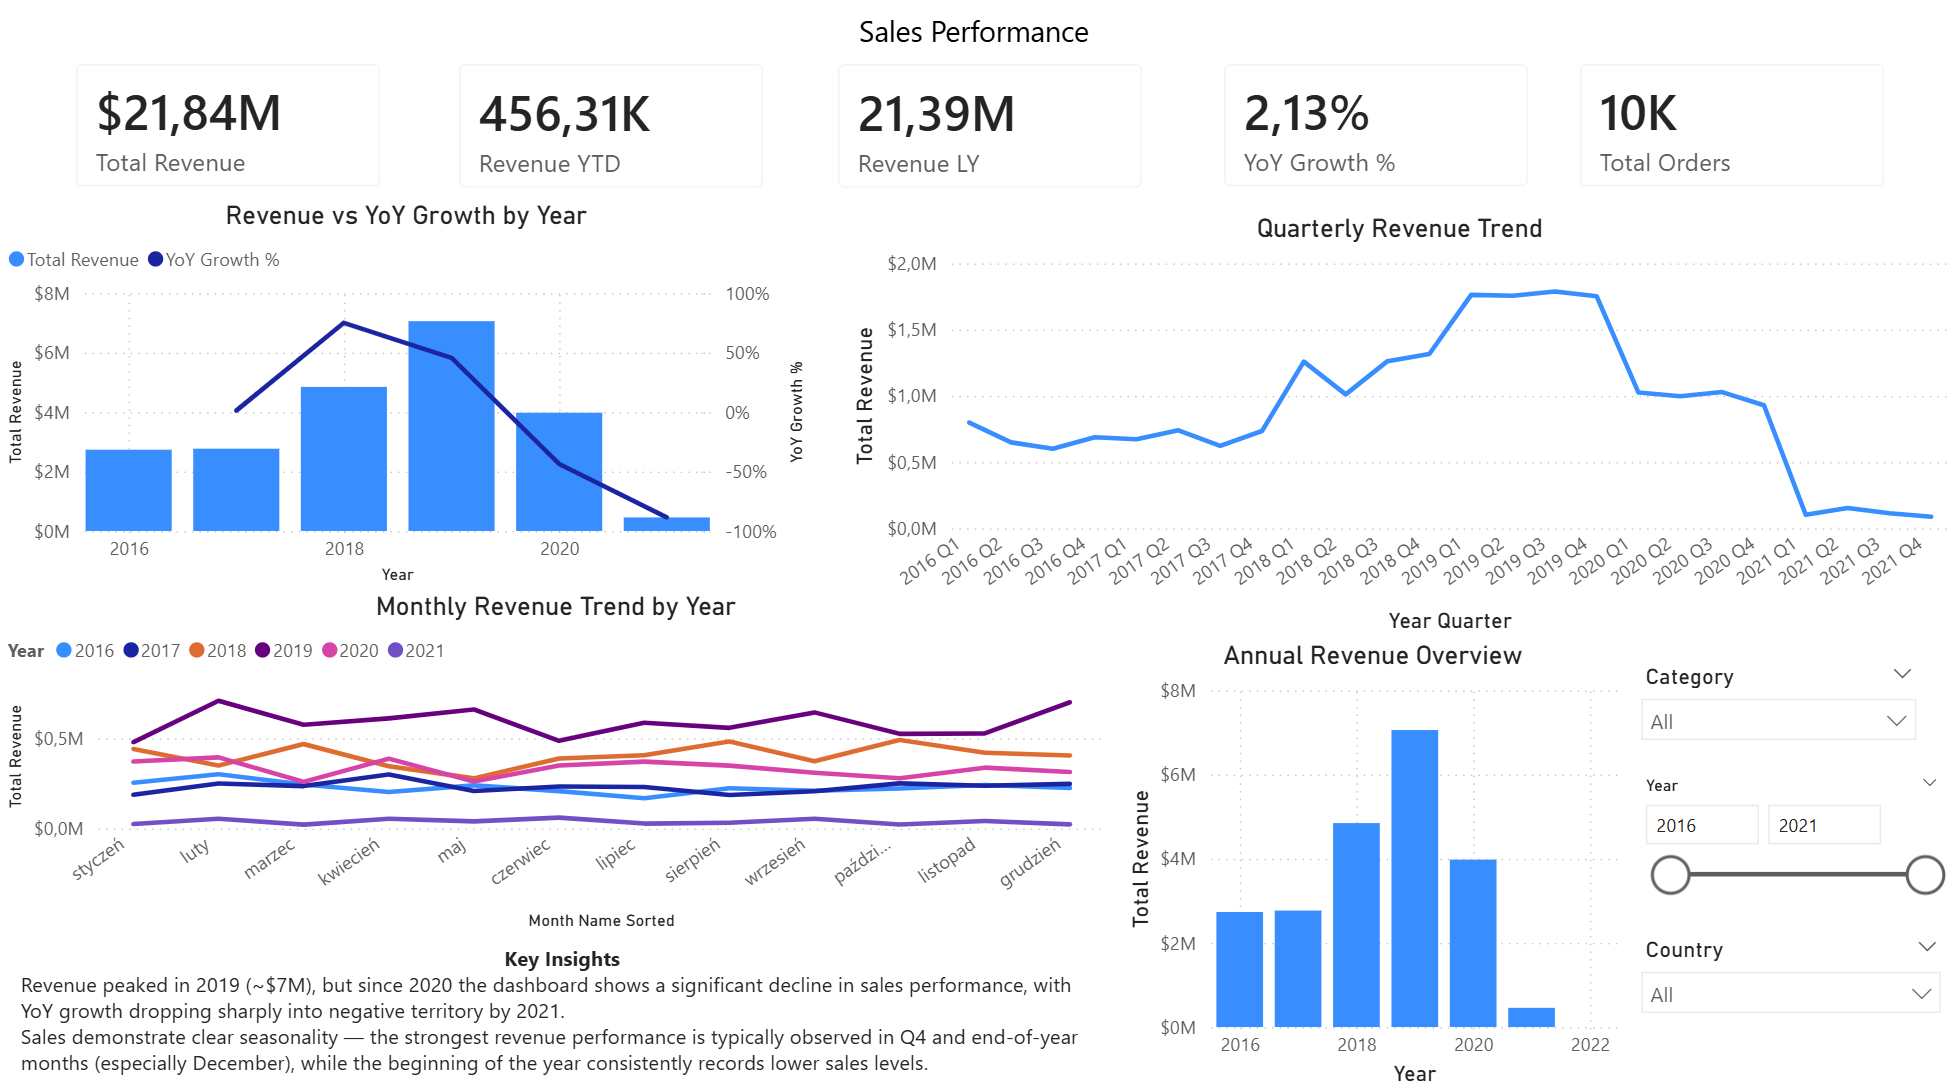

The page's visual inventory and layout, read from the dashboard file:
{"tool":"powerbi","page":{"name":"Sales Performance ","canvas":[1280,720],"ordinal":1},"visuals":[{"type":"cardVisual","fields":{"Data":["Sales.Total Revenue"]},"box":[32.5,29.8,233.2,114.6],"z":0},{"type":"cardVisual","fields":{"Data":["Sales.Revenue YTD"]},"box":[283.4,29.8,233.2,115.9],"z":1000},{"type":"cardVisual","fields":{"Data":["Sales.Revenue LY"]},"box":[531.5,29.8,233.2,115.9],"z":2000},{"type":"cardVisual","fields":{"Data":["Sales.YoY Growth %"]},"box":[783.7,29.8,233.2,114.6],"z":3000},{"type":"cardVisual","fields":{"Data":["Sales.Total Orders"]},"box":[1016.9,29.8,233.2,114.6],"z":4000},{"type":"lineChart","title":"Quarterly Revenue Trend","fields":{"Y":["Sales.Total Revenue"],"Category":["Calendar.Year Quarter"]},"box":[552.5,144.4,727.5,279.3],"z":5000},{"type":"columnChart","title":"Annual Revenue Overview","fields":{"Category":["Calendar.Year"],"Y":["Sales.Total Revenue"]},"box":[732.9,423.7,330.8,296.3],"z":6000},{"type":"lineClusteredColumnComboChart","title":"Revenue vs YoY Growth by Year","fields":{"Category":["Calendar.Year"],"Y":["Sales.Total Revenue"],"Y2":["Sales.YoY Growth %"]},"box":[0,136.3,531.5,255.6],"z":7000},{"type":"lineChart","title":"Monthly Revenue Trend by Year","fields":{"Y":["Sales.Total Revenue"],"Series":["Calendar.Year"],"Category":["Calendar.Month Name Sorted"]},"box":[0,391.9,727.5,226.4],"z":8000},{"type":"slicer","fields":{"Values":["Calendar.Year"]},"box":[1063.7,507.8,216.3,96.9],"z":9000},{"type":"slicer","fields":{"Values":["Products.Category"]},"box":[1063.7,434.6,200,67.1],"z":10000},{"type":"slicer","fields":{"Values":["Customers.Country"]},"box":[1063.7,612.9,216.3,68.5],"z":11000},{"type":"textbox","box":[490.2,8.1,299.7,38.6],"z":11001},{"type":"textbox","box":[8.8,618.3,718.6,101.7],"z":11002}]}

Visuals, with their boxes in screenshot pixels (x1, y1, x2, y2), scaled from the page's 1280x720 canvas onto the 1956x1092 screenshot:
cardVisual - Sales.Total Revenue: (50, 45, 406, 219)
cardVisual - Sales.Revenue YTD: (433, 45, 789, 221)
cardVisual - Sales.Revenue LY: (812, 45, 1169, 221)
cardVisual - Sales.YoY Growth %: (1198, 45, 1554, 219)
cardVisual - Sales.Total Orders: (1554, 45, 1910, 219)
"Quarterly Revenue Trend" lineChart: (844, 219, 1955, 643)
"Annual Revenue Overview" columnChart: (1120, 643, 1625, 1091)
"Revenue vs YoY Growth by Year" lineClusteredColumnComboChart: (0, 207, 812, 594)
"Monthly Revenue Trend by Year" lineChart: (0, 594, 1112, 938)
slicer - Calendar.Year: (1625, 770, 1955, 917)
slicer - Products.Category: (1625, 659, 1931, 761)
slicer - Customers.Country: (1625, 930, 1955, 1033)
textbox: (749, 12, 1207, 71)
textbox: (13, 938, 1112, 1091)
